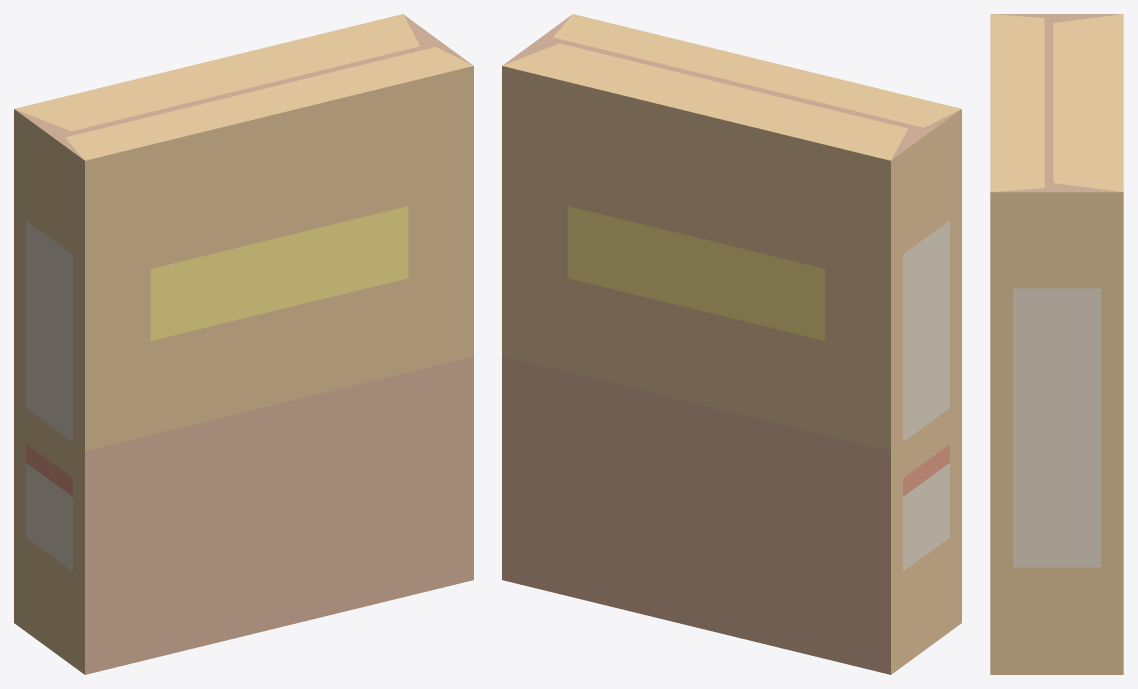
File: Cereal.fbx
3 views of the same model, side by side, from view 1: azimuth 30°, elevation 25°; view 2: azimuth 150°, elevation 25°; view 3: azimuth 270°, elevation 25° (orthographic). The views are drawn at different scales.
Visible parts, largest first — view 1: Cereal; view 2: Cereal; view 3: Cereal.
Boxes of the visible parts, x1,y1,x2,y2 form: Cereal: (14, 14, 473, 674); Cereal: (502, 14, 961, 674); Cereal: (990, 14, 1123, 674).
Size of the model in its own units: 0.2413 by 0.3048 by 0.0762.
